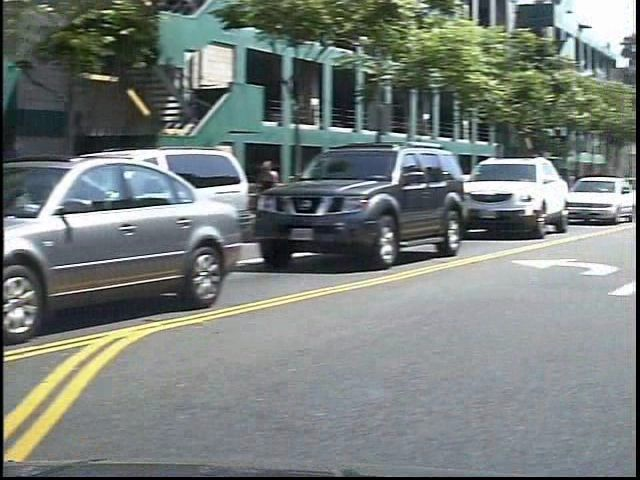person: (269, 154, 298, 232)
